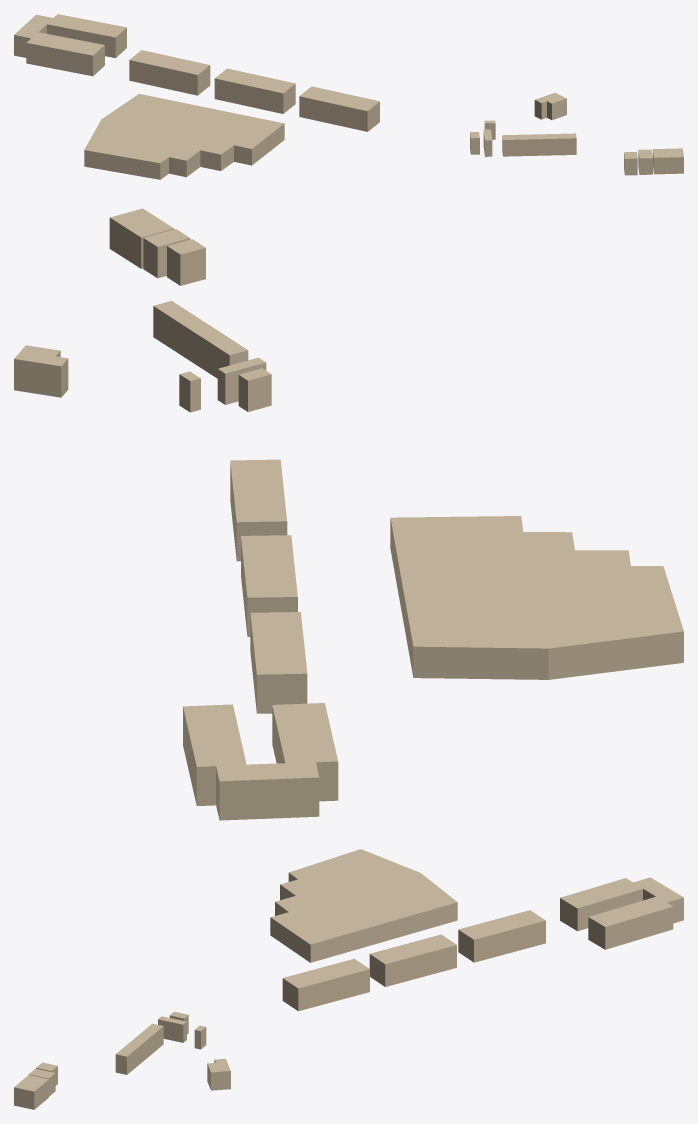
The model's file is -8_10-estimated-coarse.glb.
3 views of the same model, one above another, from view 1: azimuth 30°, elevation 25°; view 2: azimuth 150°, elevation 25°; view 3: azimuth 270°, elevation 25° (orthographic). The views are drawn at different scales.
Size of the model in its own units: 342 by 15 by 399.
